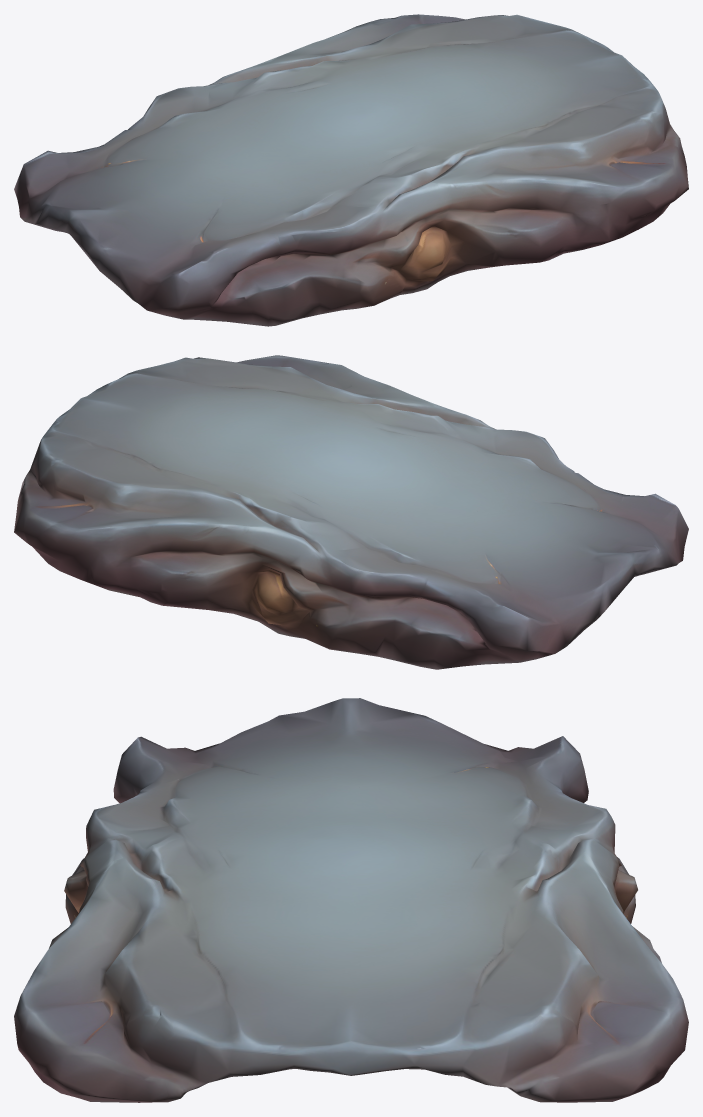
File: tasiyici_sirt.glb
The picture shows the model from 3 angles, top to bottom: view 1: azimuth 30°, elevation 25°; view 2: azimuth 150°, elevation 25°; view 3: azimuth 270°, elevation 25°; orthographic projection. The views are drawn at different scales.
Visible parts, largest first — view 1: tripo_node_ec395304-6bdb-4047-8dca-ae349d0e18cb; view 2: tripo_node_ec395304-6bdb-4047-8dca-ae349d0e18cb; view 3: tripo_node_ec395304-6bdb-4047-8dca-ae349d0e18cb.
Part boxes in pixels (<box>): tripo_node_ec395304-6bdb-4047-8dca-ae349d0e18cb: <box>14,14,688,326</box>; tripo_node_ec395304-6bdb-4047-8dca-ae349d0e18cb: <box>14,355,688,669</box>; tripo_node_ec395304-6bdb-4047-8dca-ae349d0e18cb: <box>14,698,688,1102</box>.
Size of the model in its own units: 1 by 0.2164 by 0.7362.
1 material, 1 textured.
